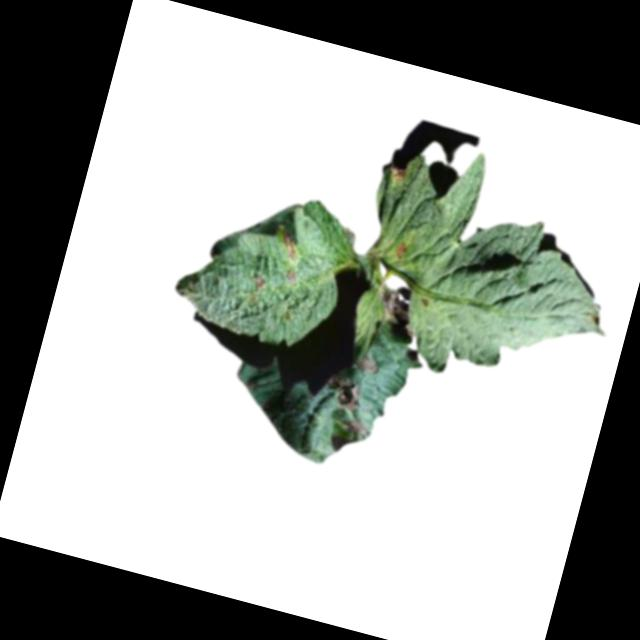Early_blight: (373, 284, 416, 333), (322, 373, 366, 413), (272, 228, 301, 262), (353, 354, 382, 380), (339, 414, 367, 440), (388, 163, 408, 184), (250, 275, 268, 294), (392, 242, 409, 262), (282, 267, 299, 284)
